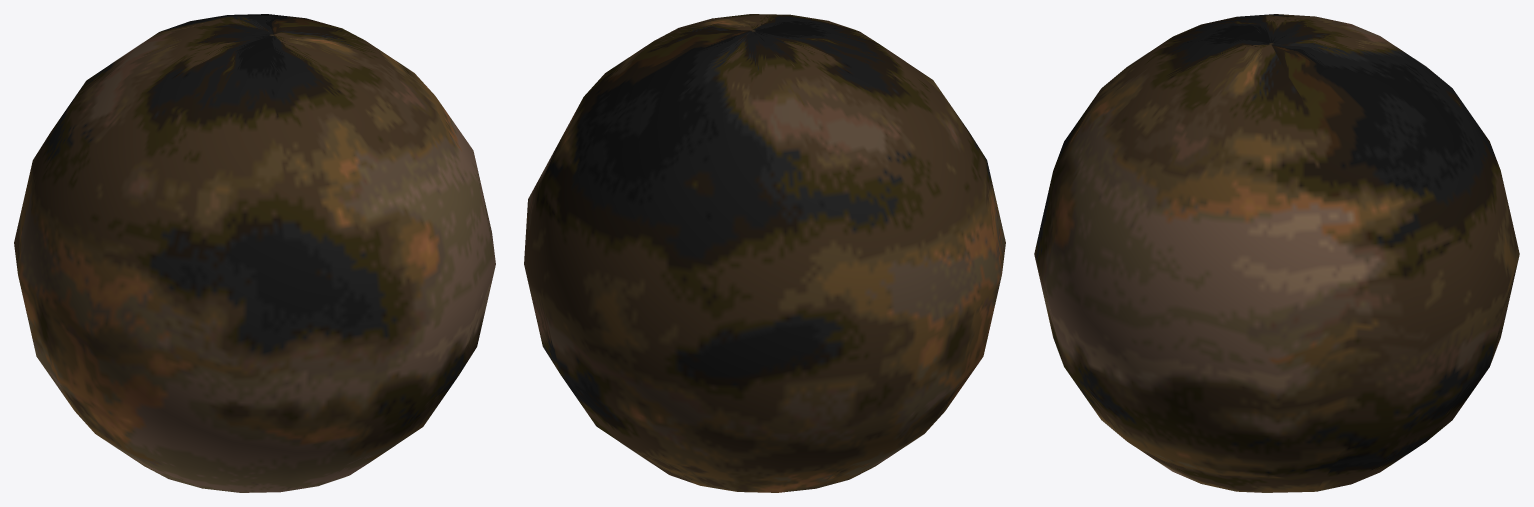
Rendered from SkyBox.obj.
The picture shows the model from 3 angles, left to right: view 1: azimuth 30°, elevation 25°; view 2: azimuth 150°, elevation 25°; view 3: azimuth 270°, elevation 25°; orthographic projection.
Parts seen in each view (by area): view 1: SkyBox; view 2: SkyBox; view 3: SkyBox.
Boxes of the visible parts, left/top/right/bottom form: SkyBox: left=14, top=14, right=495, bottom=492; SkyBox: left=524, top=14, right=1005, bottom=492; SkyBox: left=1034, top=14, right=1519, bottom=492.
Bounding box in the file's own units: 1379 × 1362 × 1379.
1 material, 1 textured.
